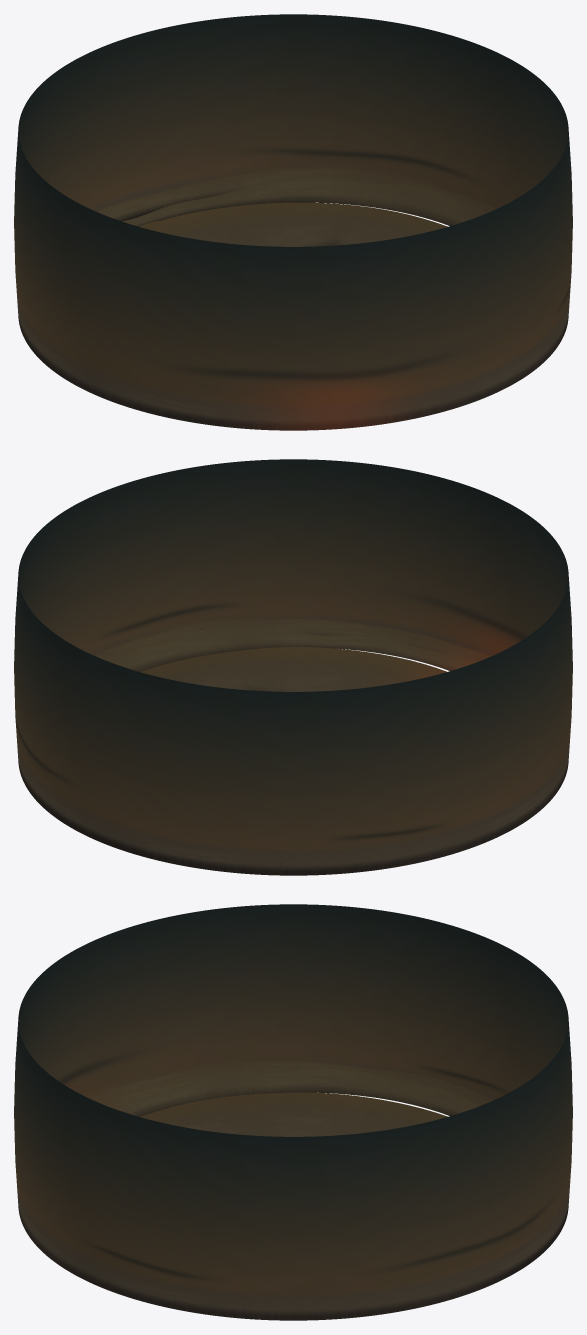
The model's file is echo-canyon-panorama.glb.
The picture shows the model from 3 angles, top to bottom: view 1: azimuth 30°, elevation 25°; view 2: azimuth 150°, elevation 25°; view 3: azimuth 270°, elevation 25°; orthographic projection.
Parts seen in each view (by area): view 1: EchoCanyonPanorama; view 2: EchoCanyonPanorama; view 3: EchoCanyonPanorama.
Boxes of the visible parts, <box> form: EchoCanyonPanorama: <box>14,14,572,430</box>; EchoCanyonPanorama: <box>14,459,572,875</box>; EchoCanyonPanorama: <box>14,904,572,1320</box>.
Size of the model in its own units: 386 by 140 by 386.
1 material, 1 textured.
